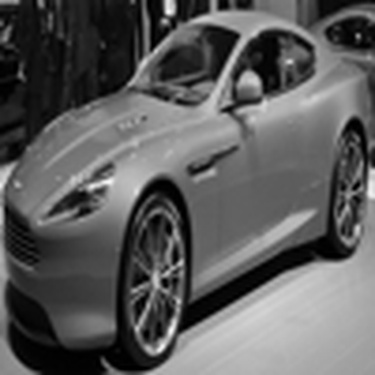car: (12, 1, 370, 371), (318, 3, 372, 77)
